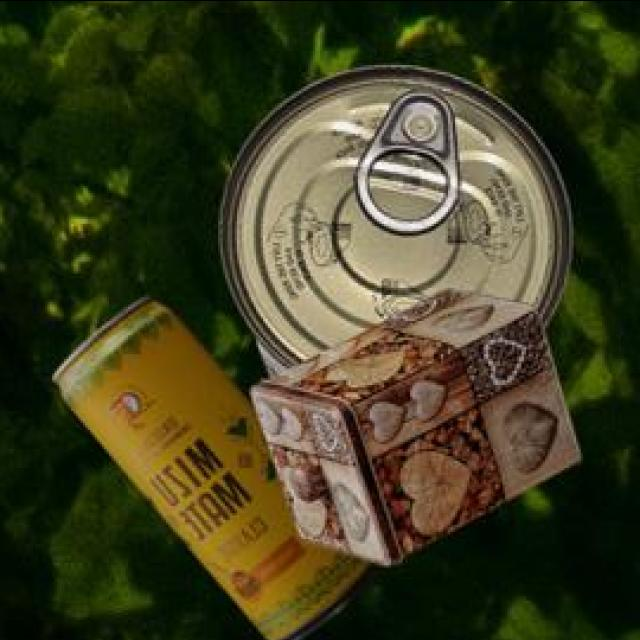logam: (49, 293, 371, 640), (217, 60, 568, 373), (248, 283, 577, 561)
